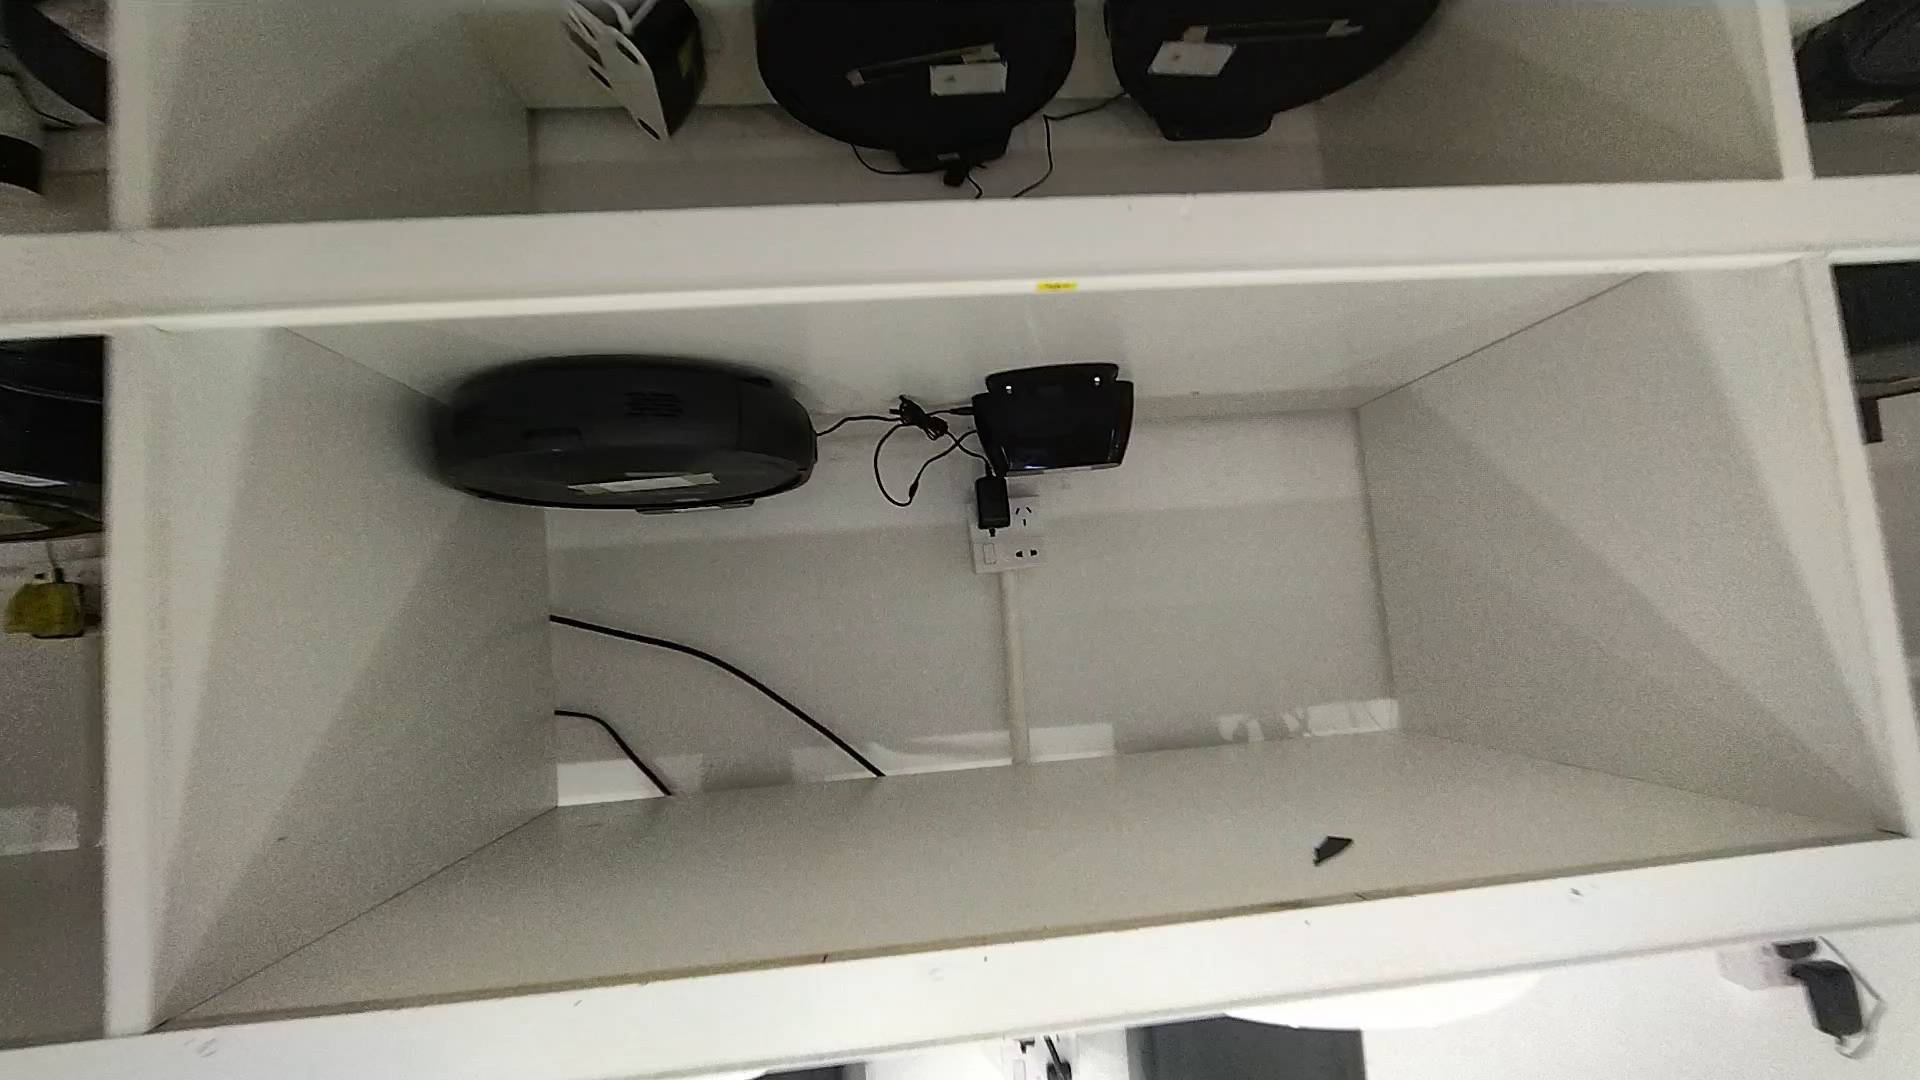recharge seat: (560, 3, 709, 140), (973, 363, 1142, 477)
